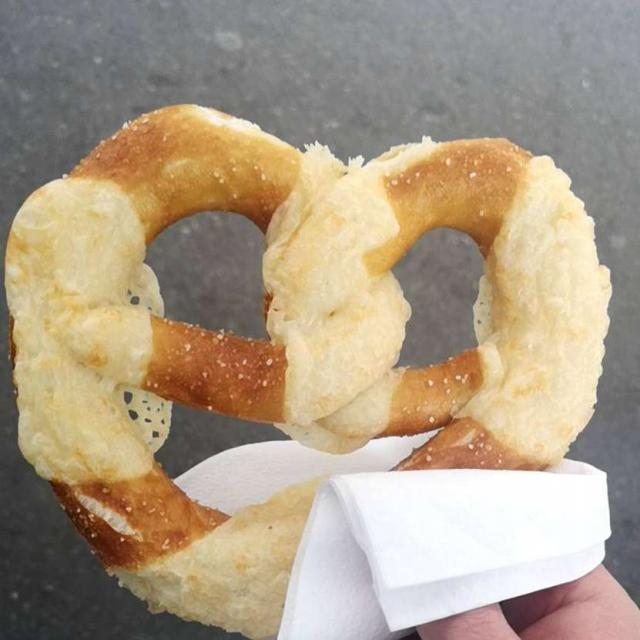pretzel: (30, 111, 604, 596)
